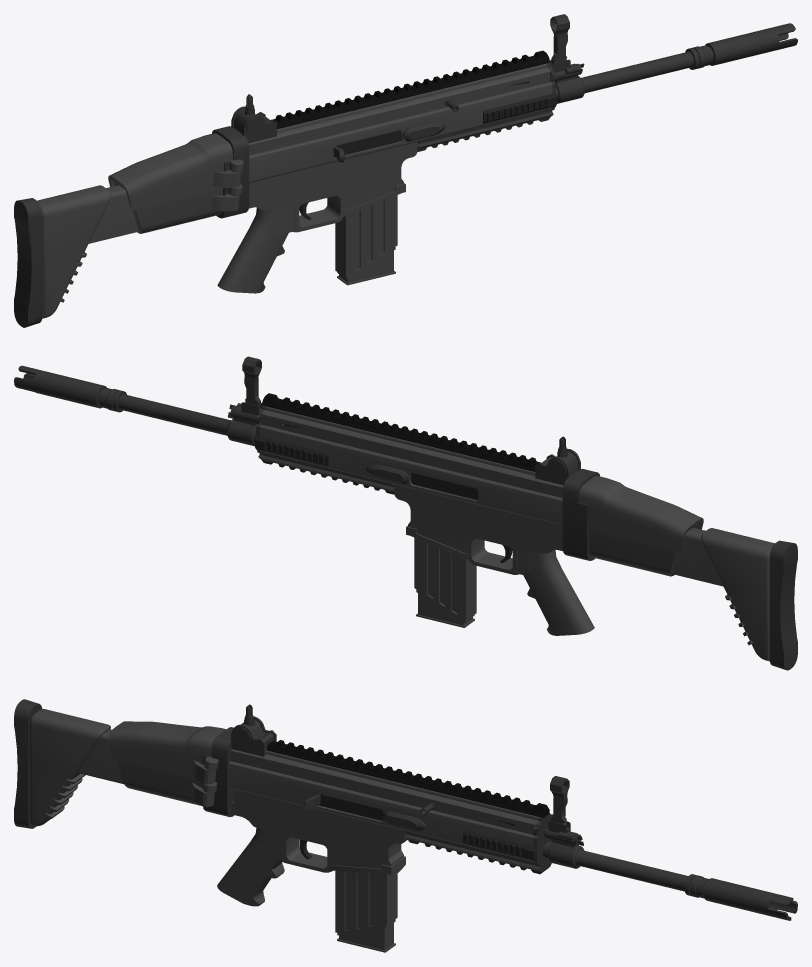
3 renders of one model, top to bottom at view 1: azimuth 30°, elevation 25°; view 2: azimuth 150°, elevation 25°; view 3: azimuth 330°, elevation 25°, orthographic.
Visible parts, largest first — view 1: MK17; view 2: MK17; view 3: MK17.
Boxes of the visible parts, x1=… form: MK17: x1=14, y1=14, x2=797, y2=327; MK17: x1=14, y1=356, x2=797, y2=670; MK17: x1=14, y1=699, x2=797, y2=952.
Bounding box in the file's own units: 0.8188 × 0.215 × 0.0571.
